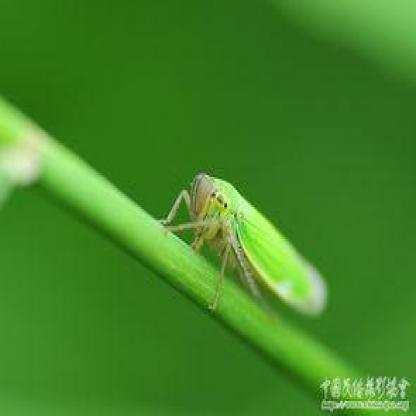Green-Leafhopper: (152, 166, 332, 333)
